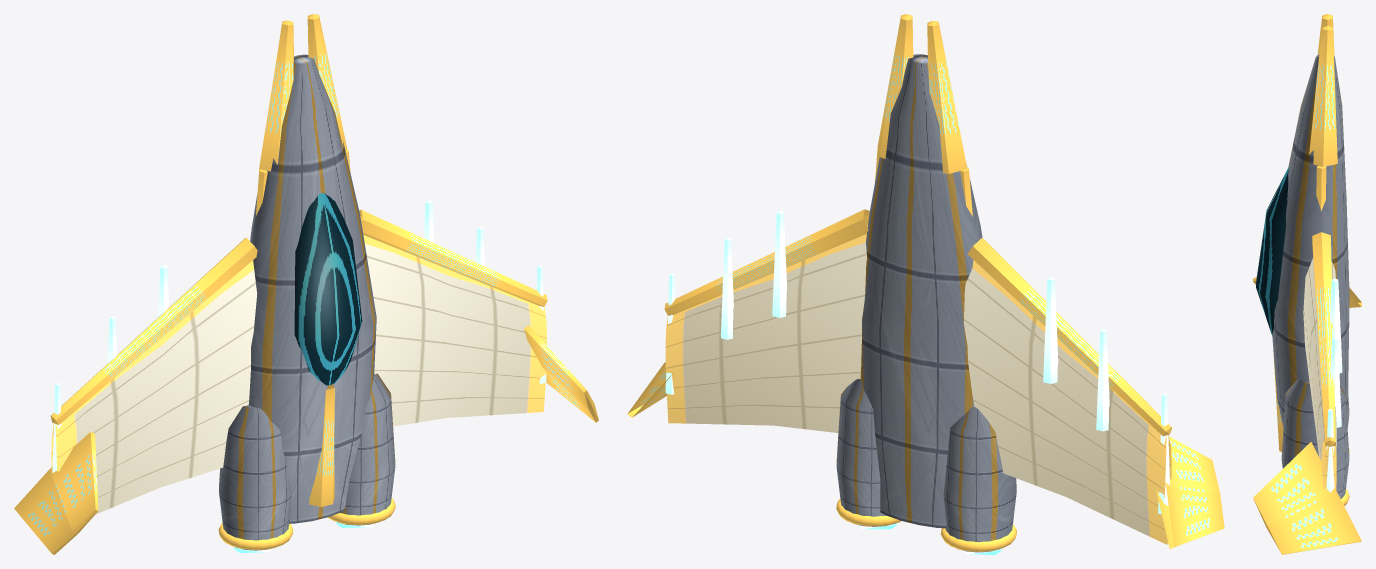
Rendered from ship_c2_star_glider.glb.
3 views of the same model, side by side, from view 1: azimuth 30°, elevation 25°; view 2: azimuth 150°, elevation 25°; view 3: azimuth 270°, elevation 25° (orthographic). The views are drawn at different scales.
Parts seen in each view (by area): view 1: ship_c2_star_glider; view 2: ship_c2_star_glider; view 3: ship_c2_star_glider.
Part boxes in pixels (x1,y1,x2,y2): ship_c2_star_glider: (14,14,598,554); ship_c2_star_glider: (627,14,1224,554); ship_c2_star_glider: (1253,14,1361,554).
Size of the model in its own units: 3.85 by 3.48 by 0.7259.
Materials: 5 (5 with a texture image).
